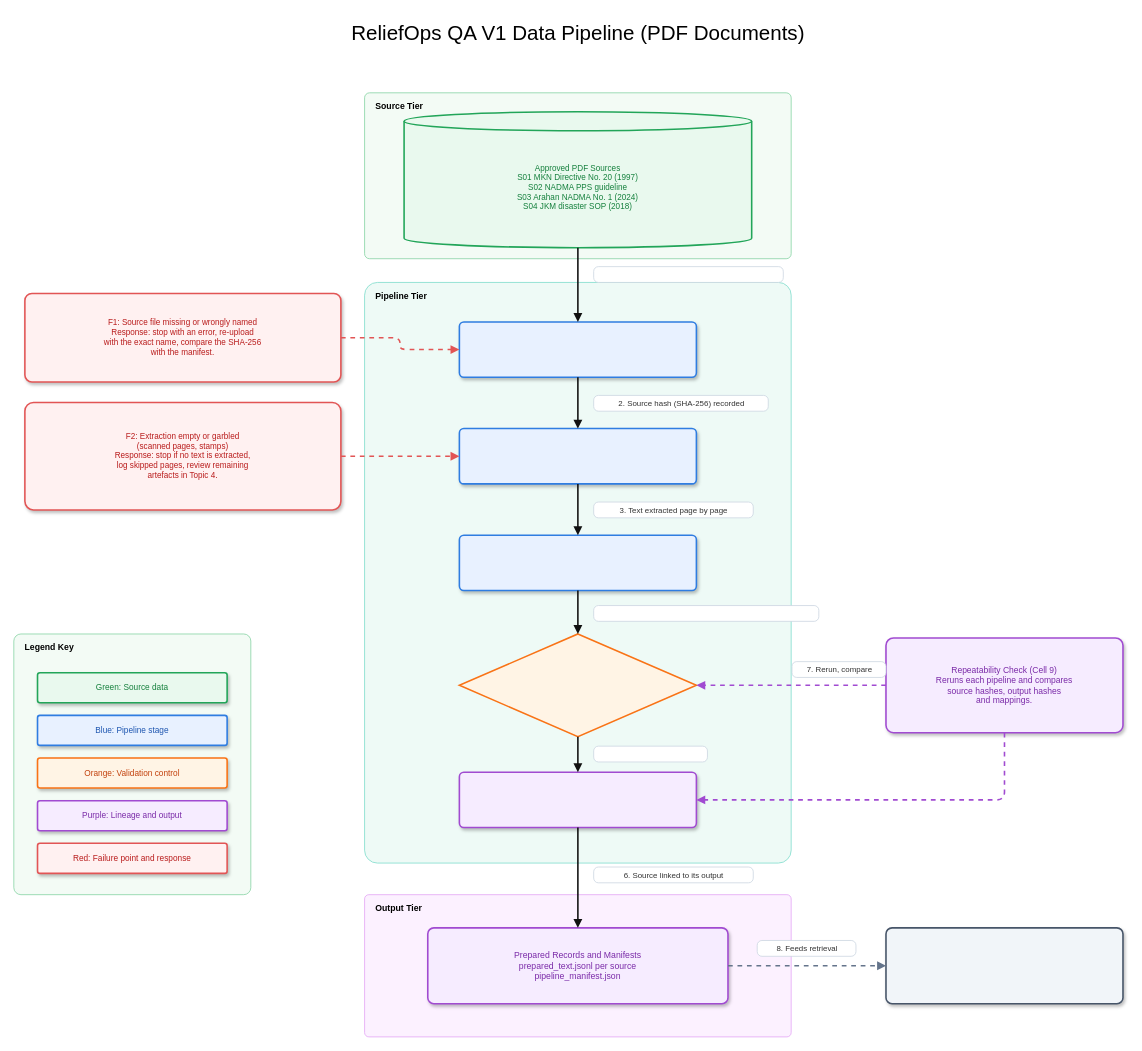
Some shapes in this 1142 by 1051 pixel diagram are drawn without their labels. The shapes that lost their labels are listed below. From the top down, each one's centre as x and y in pixels, then its label:
At [688,274]: "1. Reads each file by its exact name".
At [578,350]: "Ingest".
At [578,457]: "Inspect".
At [578,563]: "Prepare / Transform".
At [706,613]: "4. Clean, reflow, 500-character page chunks".
At [577,685]: "Output Check".
At [650,753]: "5. Valid records only".
At [578,800]: "Record Lineage".
At [1005,967]: "Knowledge Access (Week 2) Hybrid retrieval over these records, in later topics".
